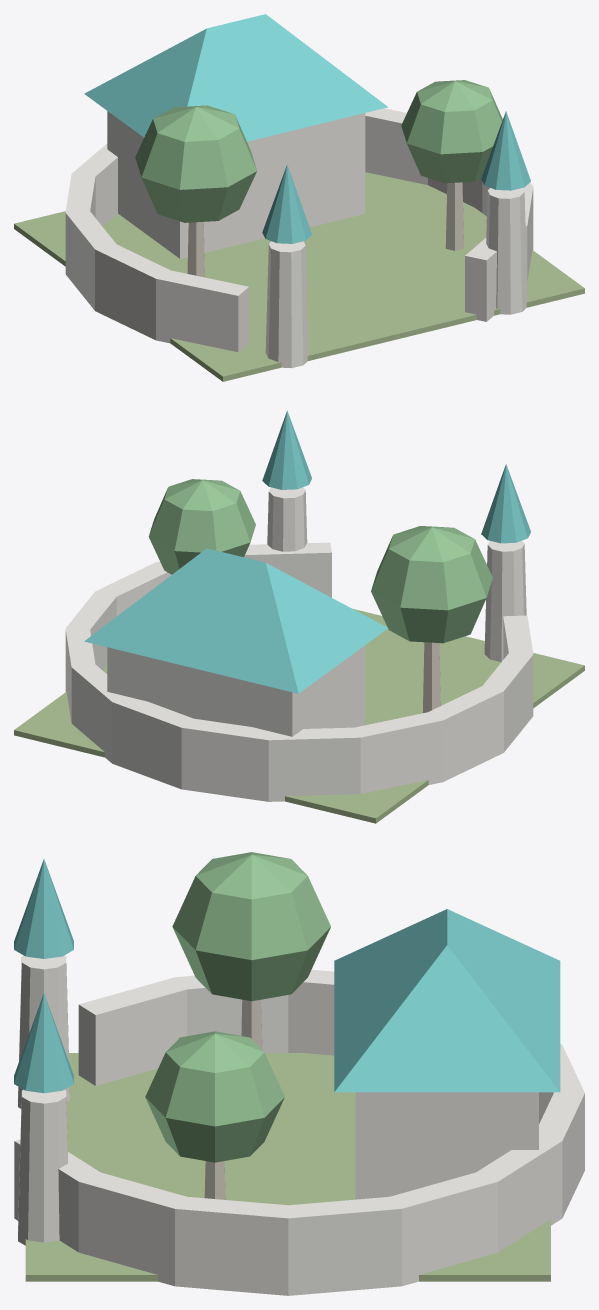
3 renders of one model, top to bottom at view 1: azimuth 30°, elevation 25°; view 2: azimuth 150°, elevation 25°; view 3: azimuth 270°, elevation 25°, orthographic. The views are drawn at different scales.
Visible parts, largest first — view 1: body; view 2: body; view 3: body.
Part boxes in pixels (x1=…): body: x1=14, y1=14, x2=584, y2=381; body: x1=14, y1=411, x2=584, y2=823; body: x1=14, y1=852, x2=584, y2=1295.
Size of the model in its own units: 9.71 by 4.43 by 9.35.
